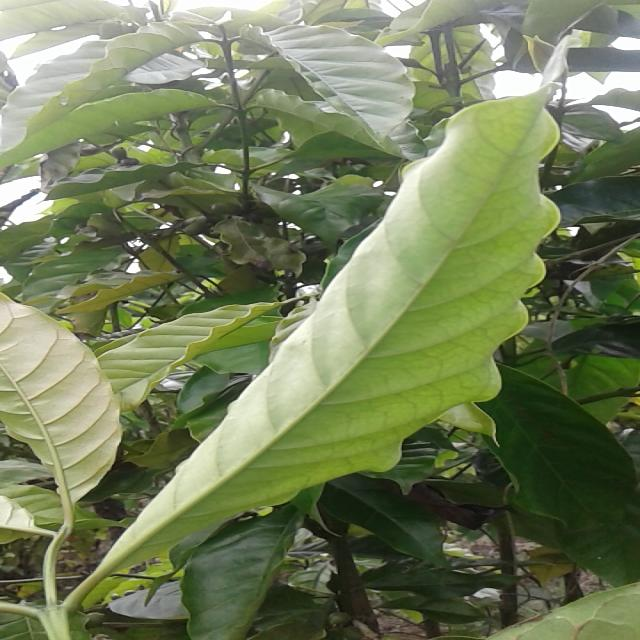Sanas: (78, 42, 569, 594)
